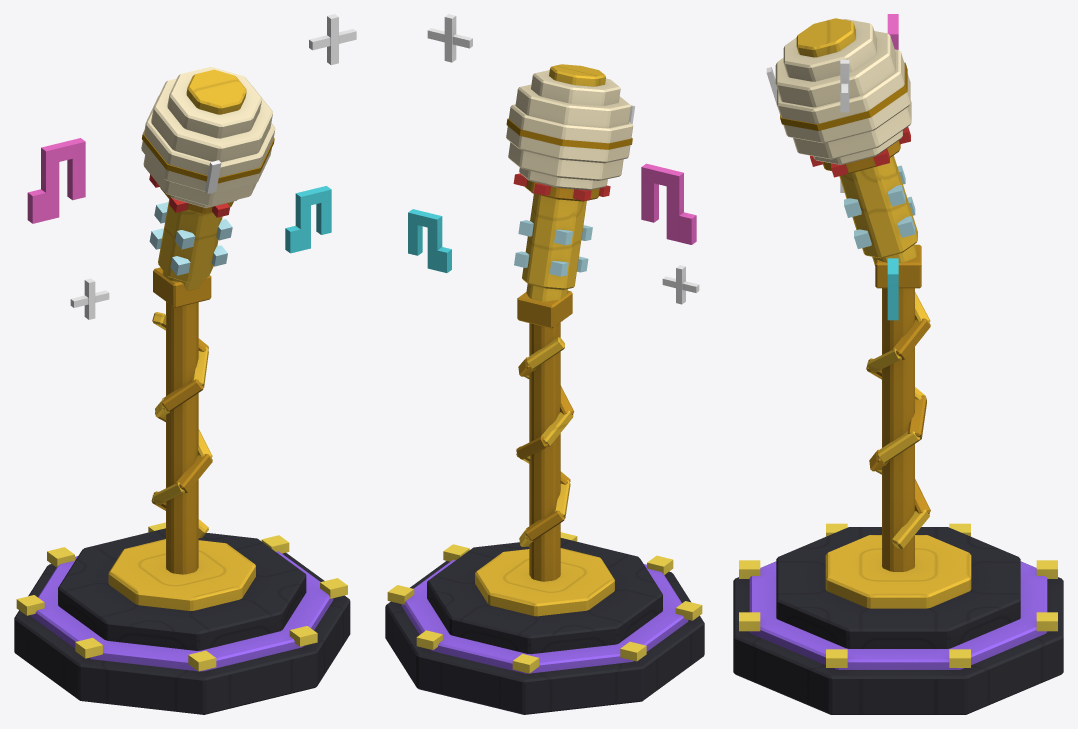
The model's file is GoldenMic.fbx.
3 views of the same model, side by side, from view 1: azimuth 30°, elevation 25°; view 2: azimuth 150°, elevation 25°; view 3: azimuth 270°, elevation 25° (orthographic). The views are drawn at different scales.
Visible parts, largest first — view 1: Art_GoldenMic; view 2: Art_GoldenMic; view 3: Art_GoldenMic.
Boxes of the visible parts, bbox=[...] form: Art_GoldenMic: bbox=[14, 14, 356, 714]; Art_GoldenMic: bbox=[385, 14, 704, 714]; Art_GoldenMic: bbox=[733, 14, 1063, 714].
Size of the model in its own units: 2.05 by 4 by 1.85.
